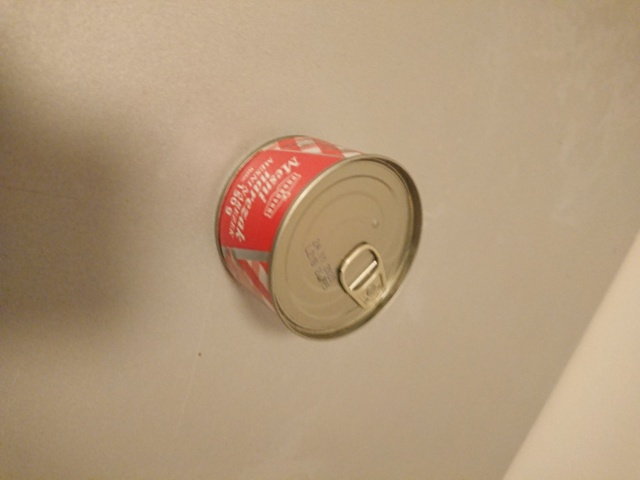Podravka Luncheon Meat 150g: (210, 130, 428, 344)
